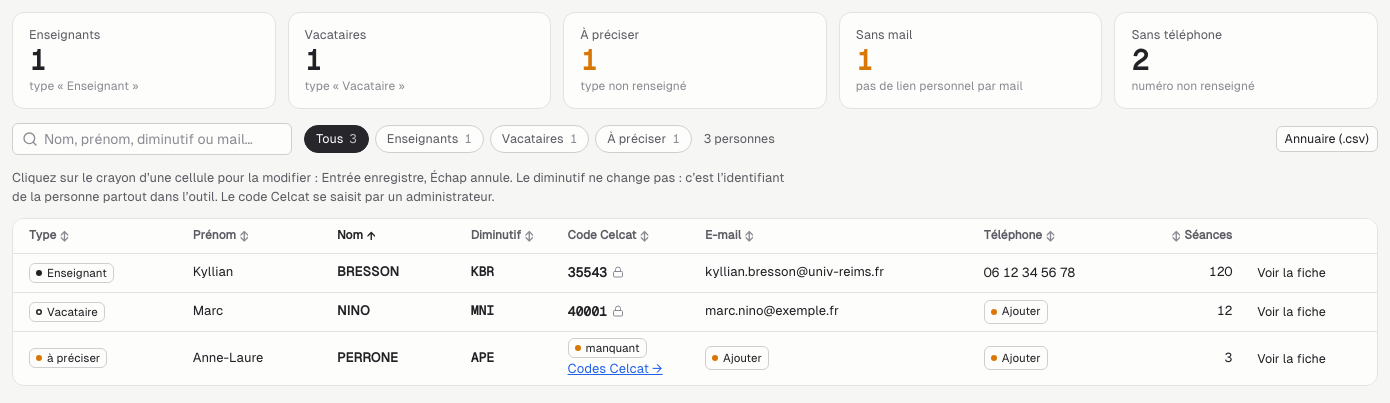
Test case: Référence — Enseignants & vacataires › recherche par nom, prénom, diminutif ou mail (sans accents)
expect the text "BRESSON" is shown: met, box left=337, top=263, right=399, bottom=282
Type "perrone" into the search field named "Rechercher un enseignant ou un vacataire". click: coordinates (152, 139)
box: left=12, top=123, right=292, bottom=155
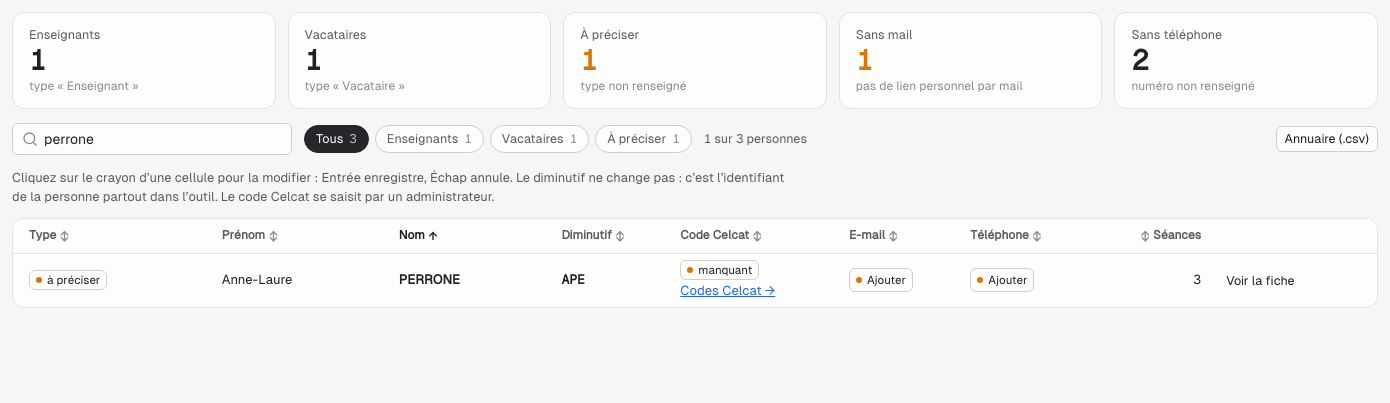
Replace the text in the search field named "Rechercher un enseignant ou un vacataire" with "kyllian". click: coordinates (152, 139)
box: left=12, top=123, right=292, bottom=155
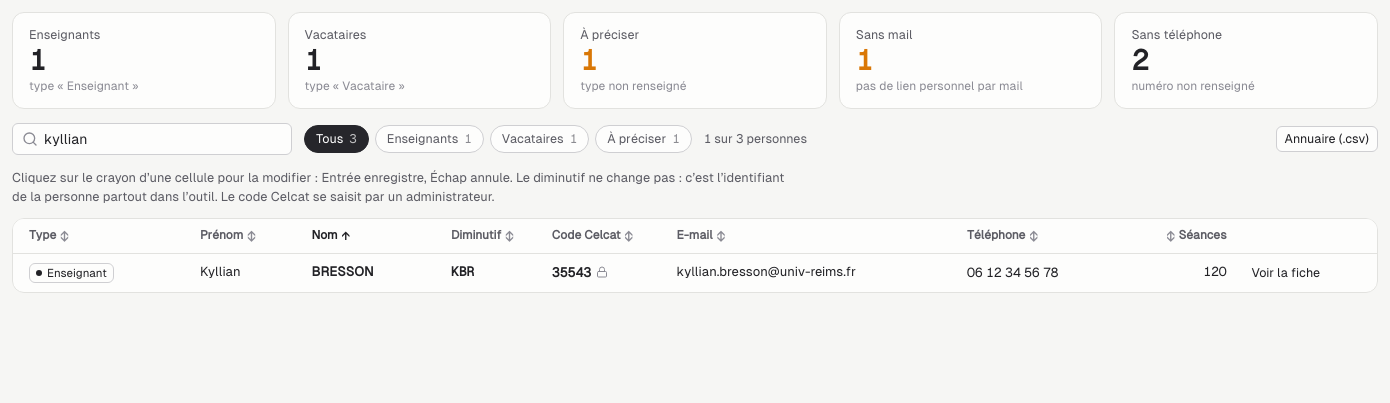
Replace the text in the search field named "Rechercher un enseignant ou un vacataire" with "mni". click: coordinates (152, 139)
box: left=12, top=123, right=292, bottom=155
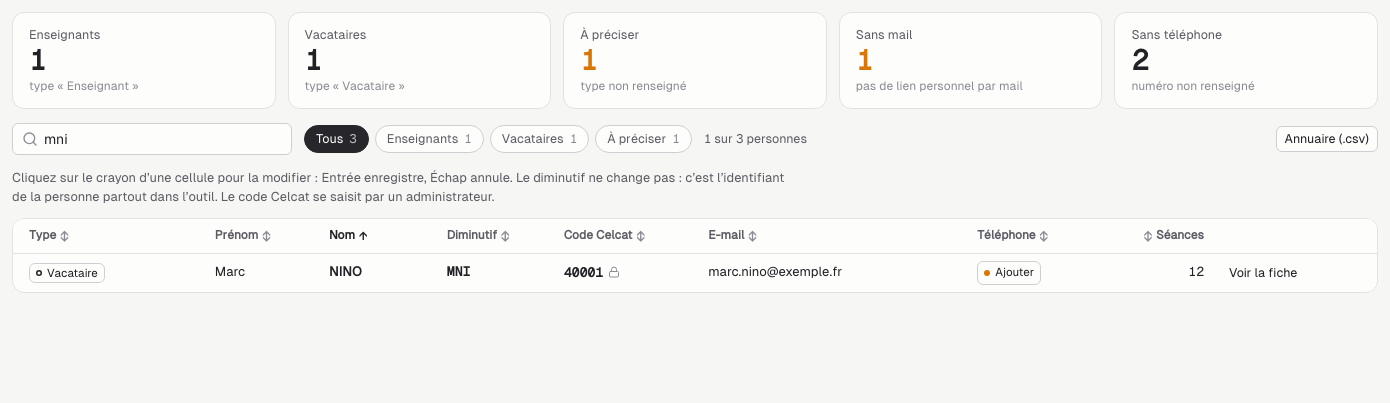
Replace the text in the search field named "Rechercher un enseignant ou un vacataire" with "exemple.fr". click: coordinates (152, 139)
box: left=12, top=123, right=292, bottom=155
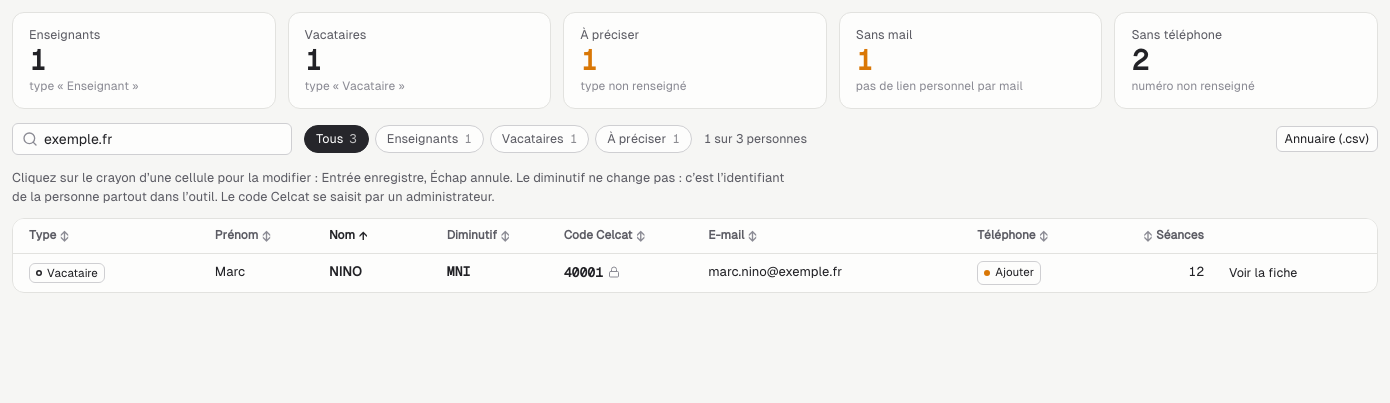
Replace the text in the search field named "Rechercher un enseignant ou un vacataire" with "anne laure". click: coordinates (152, 139)
box: left=12, top=123, right=292, bottom=155
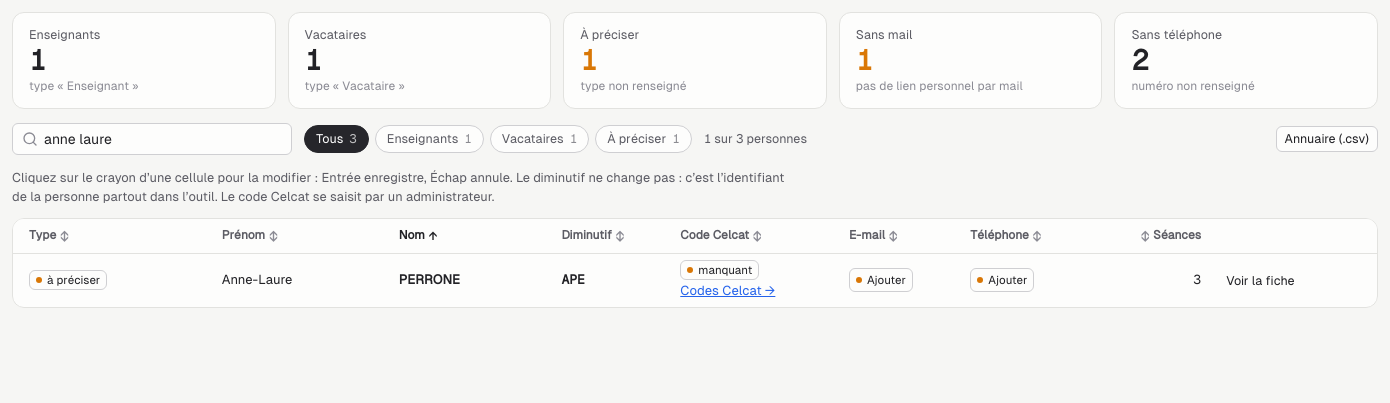
Replace the text in the search field named "Rechercher un enseignant ou un vacataire" with "zzz". click: coordinates (152, 139)
box: left=12, top=123, right=292, bottom=155
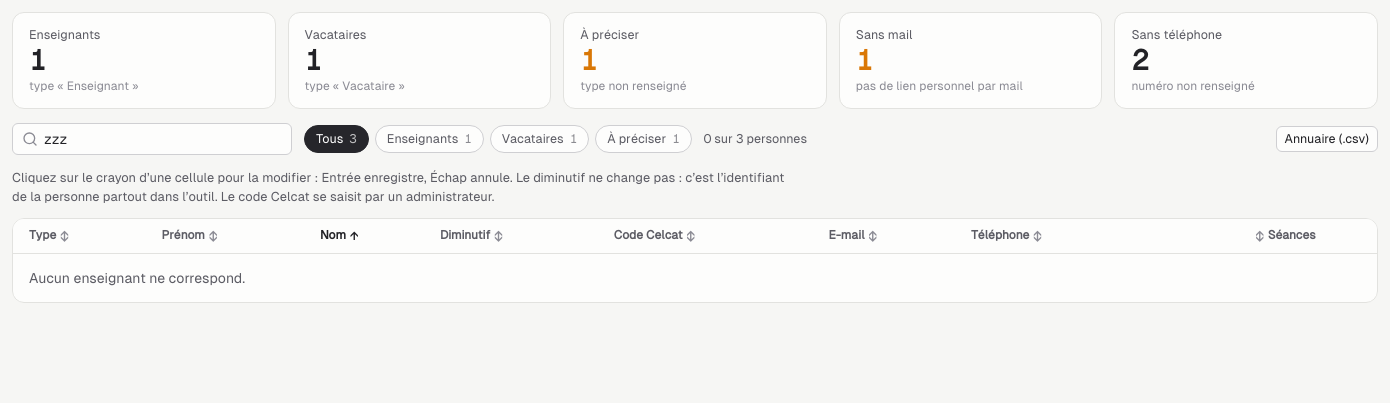
expect the text "Aucun enseignant ne correspond." is shown: met, box left=29, top=270, right=245, bottom=286
